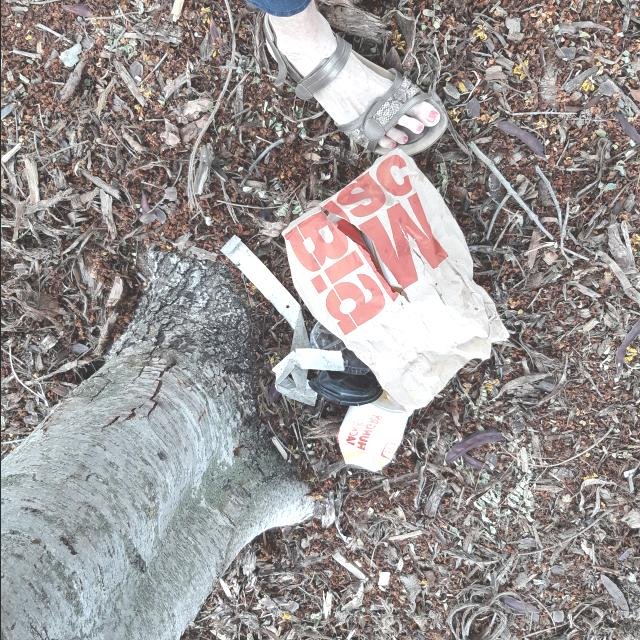Paper bag: (281, 148, 509, 413)
Paper cup: (335, 390, 412, 472)
Plastic lid: (309, 321, 369, 375), (307, 370, 382, 406)
Wrapping paper: (219, 234, 344, 406)
